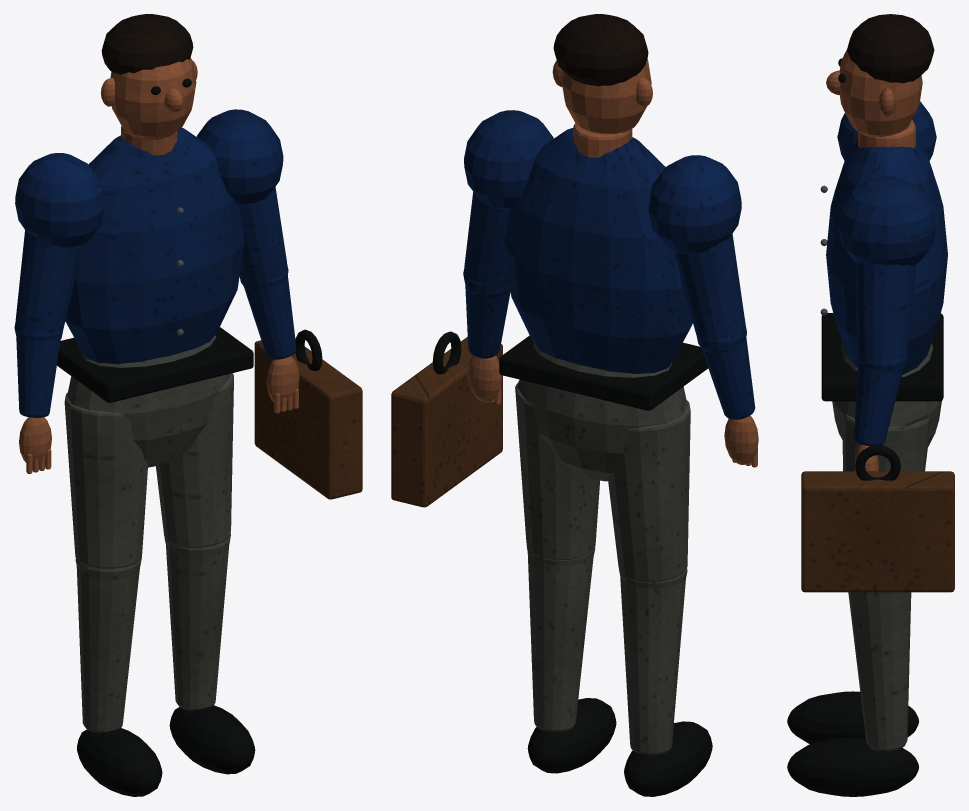
The model's file is PROP-EBA4EF231506_lod0.glb.
The picture shows the model from 3 angles, left to right: view 1: azimuth 30°, elevation 25°; view 2: azimuth 150°, elevation 25°; view 3: azimuth 270°, elevation 25°; orthographic projection. The views are drawn at different scales.
Visible parts, largest first — view 1: torso.019, thigh.018, calf.018, shoulder.019, briefcase.003, shoe.018, upper_arm.019, pelvis.018, belt.018, forearm.019, head.018, hair_cap.018 (+6 smaller); view 2: torso.019, thigh.018, calf.018, shoulder.019, briefcase.003, pelvis.018, upper_arm.019, shoe.018, belt.018, hair_cap.018, forearm.019, head.018 (+5 smaller); view 3: briefcase.003, torso.019, shoe.018, shoulder.019, calf.018, upper_arm.019, hair_cap.018, belt.018, head.018, forearm.019, thigh.018, pelvis.018 (+4 smaller).
Part boxes in pixels (x1=…): torso.019: x1=65, y1=127, x2=244, y2=364; thigh.018: x1=64, y1=373, x2=233, y2=568; calf.018: x1=76, y1=545, x2=229, y2=733; shoulder.019: x1=15, y1=109, x2=283, y2=247; briefcase.003: x1=254, y1=340, x2=362, y2=499; shoe.018: x1=77, y1=705, x2=255, y2=796; upper_arm.019: x1=15, y1=187, x2=286, y2=331; pelvis.018: x1=67, y1=335, x2=230, y2=467; belt.018: x1=57, y1=327, x2=253, y2=402; forearm.019: x1=16, y1=275, x2=296, y2=417; head.018: x1=110, y1=57, x2=196, y2=139; hair_cap.018: x1=101, y1=14, x2=193, y2=74; torso.019: x1=504, y1=128, x2=692, y2=373; thigh.018: x1=515, y1=381, x2=690, y2=582; calf.018: x1=527, y1=553, x2=685, y2=755; shoulder.019: x1=464, y1=110, x2=741, y2=253; briefcase.003: x1=391, y1=337, x2=502, y2=507; pelvis.018: x1=517, y1=344, x2=687, y2=481; upper_arm.019: x1=464, y1=192, x2=745, y2=338; shoe.018: x1=527, y1=698, x2=712, y2=796; belt.018: x1=499, y1=335, x2=708, y2=410; hair_cap.018: x1=553, y1=14, x2=648, y2=86; forearm.019: x1=465, y1=286, x2=755, y2=419; head.018: x1=561, y1=58, x2=651, y2=133; briefcase.003: x1=801, y1=471, x2=954, y2=592; torso.019: x1=826, y1=140, x2=947, y2=374; shoe.018: x1=787, y1=691, x2=918, y2=796; shoulder.019: x1=837, y1=101, x2=936, y2=266; calf.018: x1=848, y1=592, x2=911, y2=751; upper_arm.019: x1=855, y1=262, x2=916, y2=357; hair_cap.018: x1=847, y1=14, x2=934, y2=83; belt.018: x1=821, y1=313, x2=943, y2=401; head.018: x1=839, y1=50, x2=922, y2=137; forearm.019: x1=854, y1=361, x2=903, y2=446; thigh.018: x1=842, y1=414, x2=930, y2=471; pelvis.018: x1=832, y1=342, x2=941, y2=446.
Size of the model in its own units: 0.8037 by 1.84 by 0.3711.
Materials: 7 (7 with a texture image).
